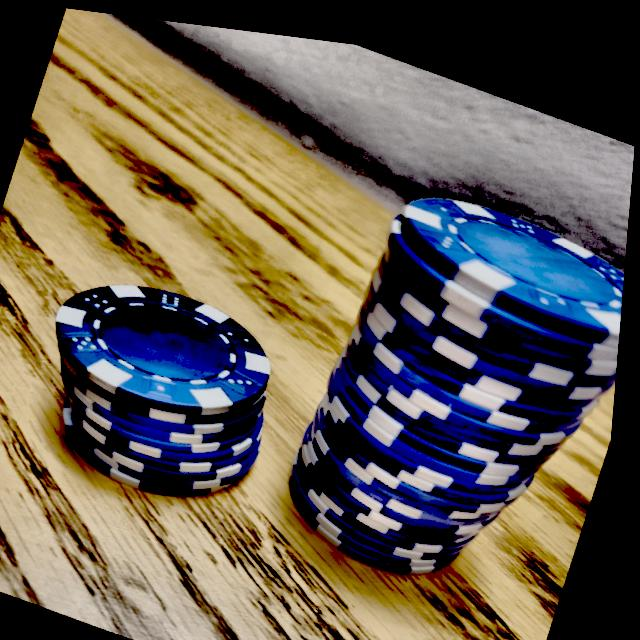Chip: (213, 117, 634, 640), (7, 220, 323, 550)
